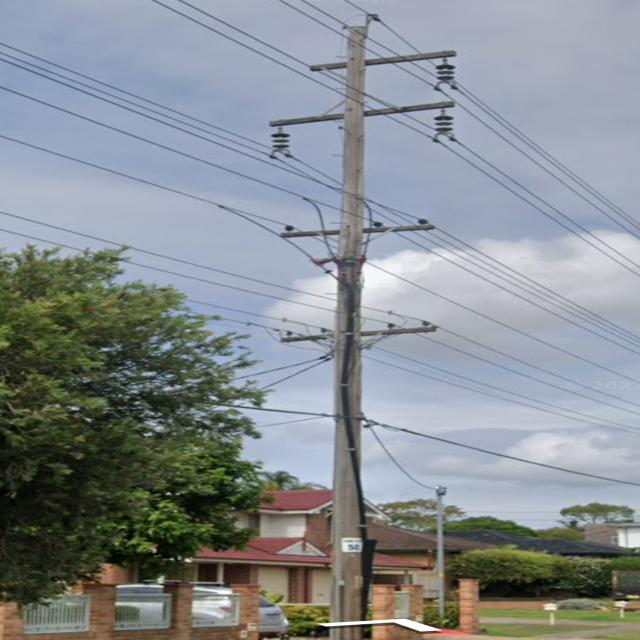HV-transmission: (269, 25, 457, 159)
crossarm: (269, 100, 450, 127), (306, 48, 459, 70), (279, 327, 437, 341), (280, 224, 436, 236)
timber-pole: (329, 27, 368, 639)
